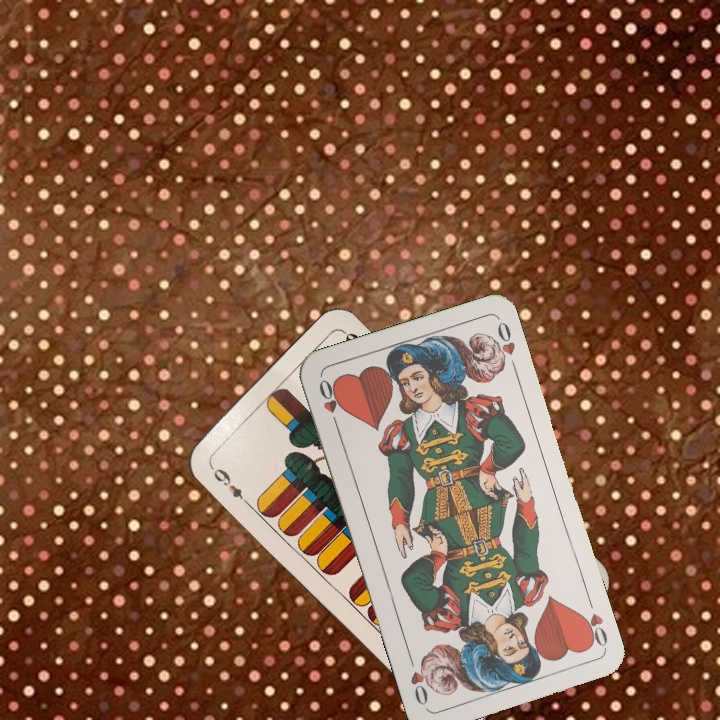E9: (205, 460, 252, 507)
HO: (576, 593, 610, 651), (314, 375, 344, 432)
